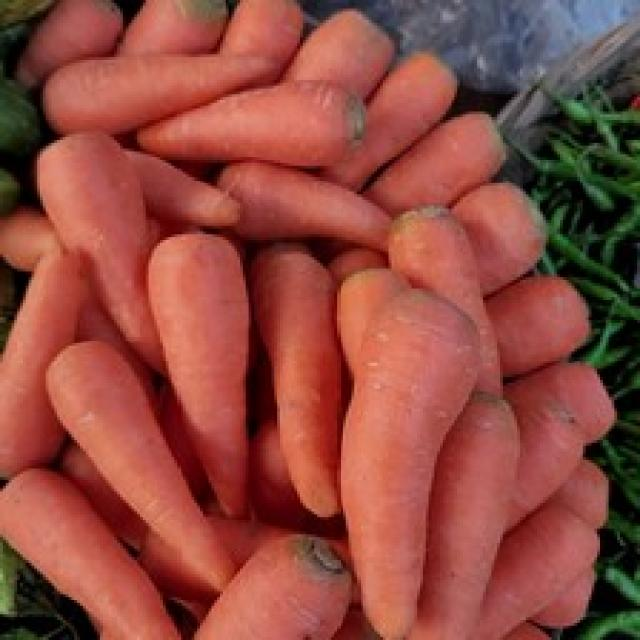Fresh_Carrot: (51, 339, 252, 593), (341, 317, 478, 637), (155, 221, 268, 508), (142, 60, 380, 158)
